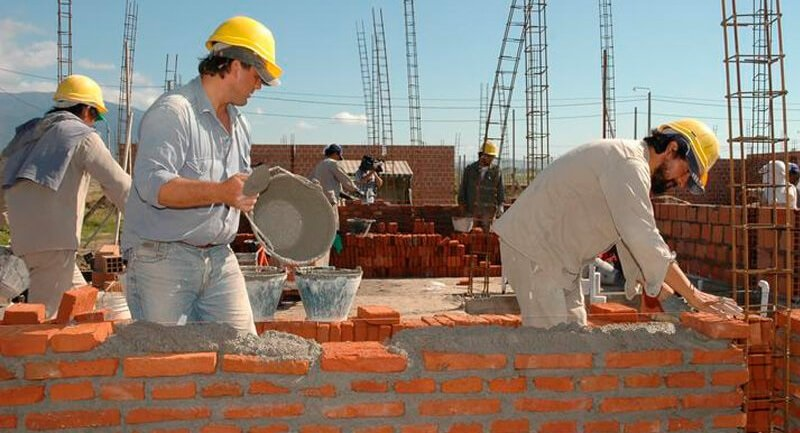casco: (203, 14, 286, 82), (656, 117, 721, 193), (52, 73, 111, 116), (478, 139, 498, 156), (324, 143, 343, 160)
